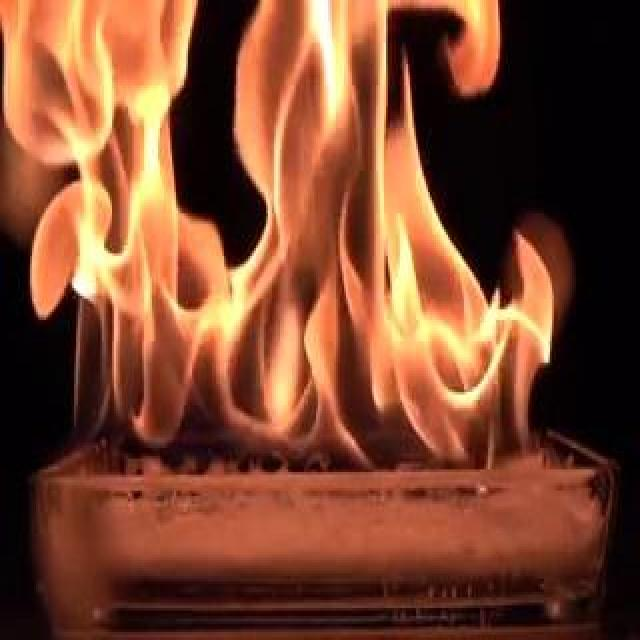Fire: (62, 2, 574, 482)
